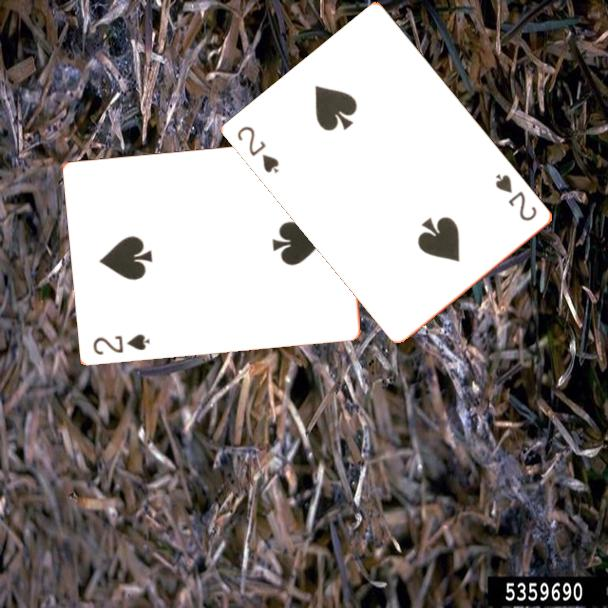s02: (234, 122, 283, 176), (492, 171, 541, 224), (90, 330, 153, 357)
